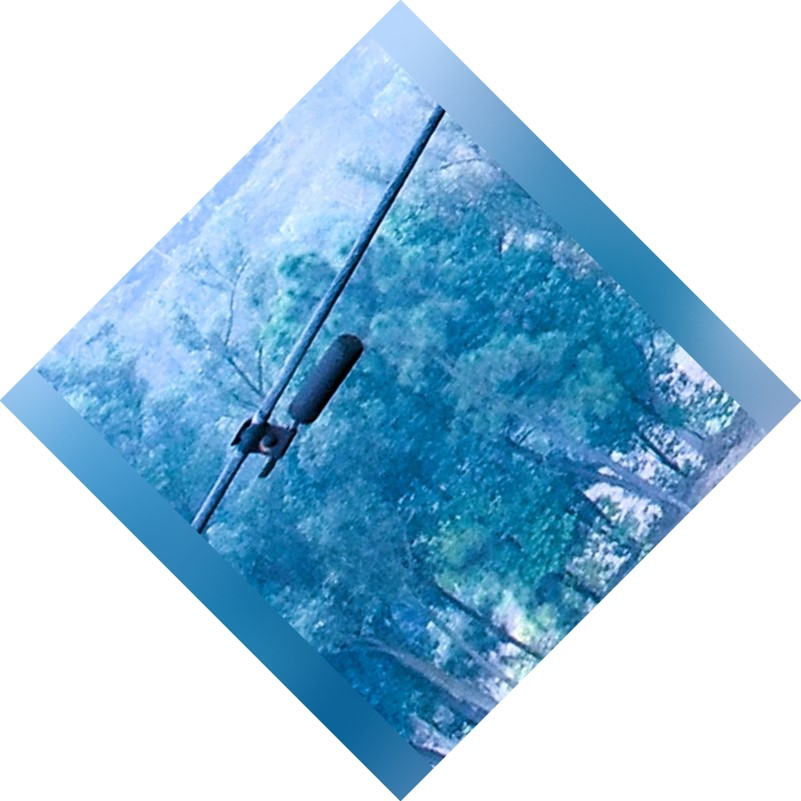Damage of shockproof hammer: (208, 325, 368, 489)
